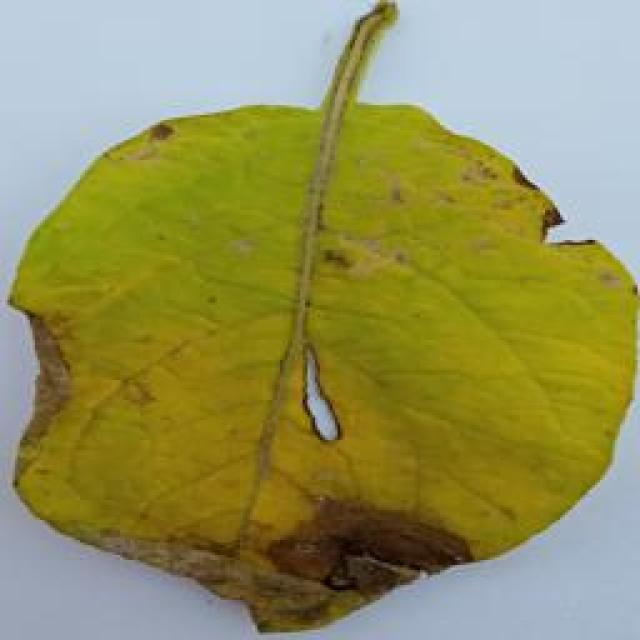Potato_Late_Blight: (13, 64, 630, 637)
